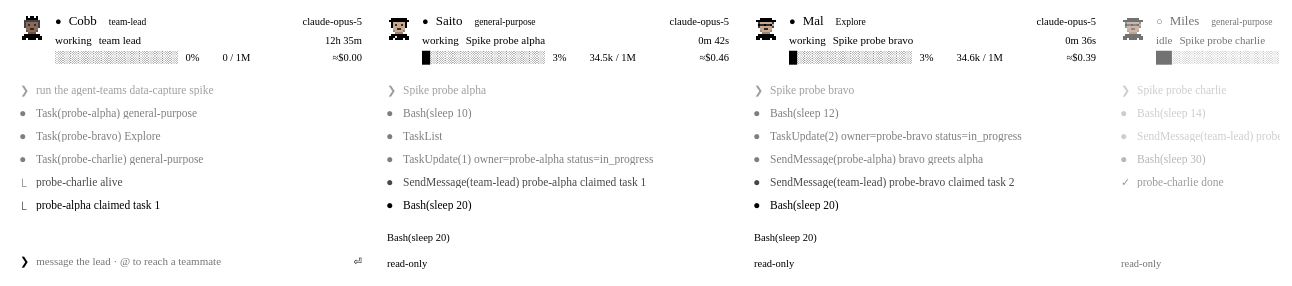
the mention picker under a theme › shows the real slot name beside the character
In the text box with test id "composer-input": (191, 262) [36, 254, 347, 269], type "@Mal"
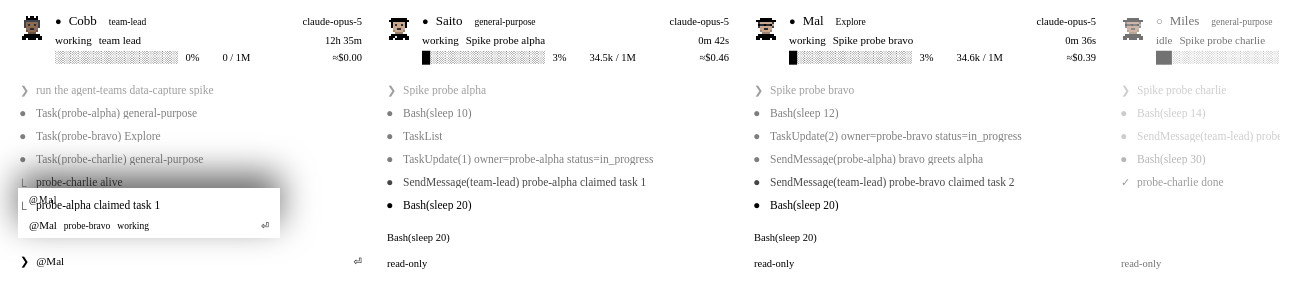
Result: the text with test id "route-real" reads "probe-bravo" at [64, 221, 110, 231]
